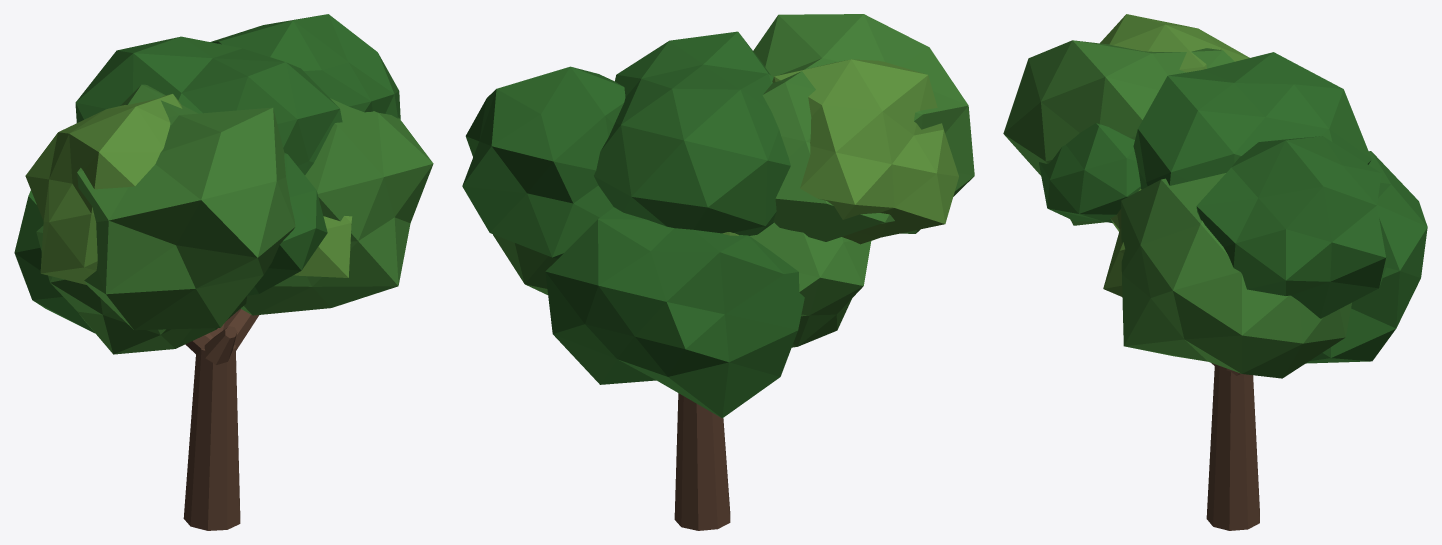
Rendered from tree.glb.
The picture shows the model from 3 angles, left to right: view 1: azimuth 30°, elevation 25°; view 2: azimuth 150°, elevation 25°; view 3: azimuth 270°, elevation 25°; orthographic projection. The views are drawn at different scales.
Visible parts, largest first — view 1: Tree; view 2: Tree; view 3: Tree.
Part boxes in pixels (x1,y1,x2,y2): Tree: [14, 14, 433, 530]; Tree: [462, 14, 974, 530]; Tree: [1003, 14, 1427, 530].
Size of the model in its own units: 5.41 by 5.68 by 4.92.
